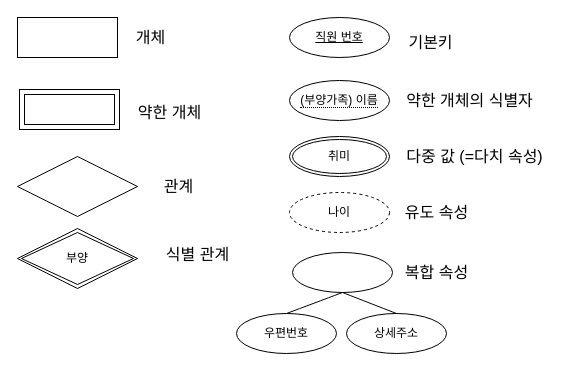
Image size: 566x371. Some labels were removed from this diagram. Each missing label, with the centre of its shape:
"가족" belongs at (x=69, y=109).
"주소" belongs at (x=342, y=272).
"직원" belongs at (x=67, y=37).
